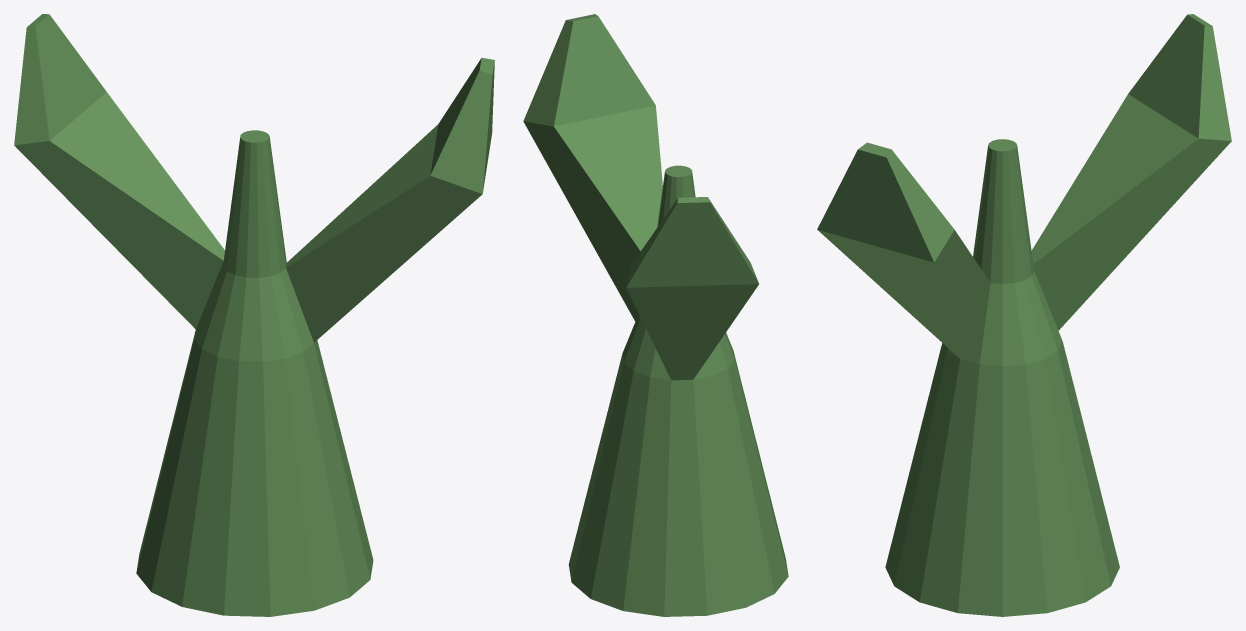
The model's file is EagStage1.fbx.
The picture shows the model from 3 angles, left to right: view 1: azimuth 30°, elevation 25°; view 2: azimuth 150°, elevation 25°; view 3: azimuth 270°, elevation 25°; orthographic projection. The views are drawn at different scales.
Parts seen in each view (by area): view 1: Cylinder.001; view 2: Cylinder.001; view 3: Cylinder.001.
Part boxes in pixels (x1=…): Cylinder.001: x1=14, y1=14, x2=494, y2=616; Cylinder.001: x1=523, y1=14, x2=788, y2=616; Cylinder.001: x1=817, y1=14, x2=1231, y2=616.
Bounding box in the file's own units: 354 × 470 × 354.
